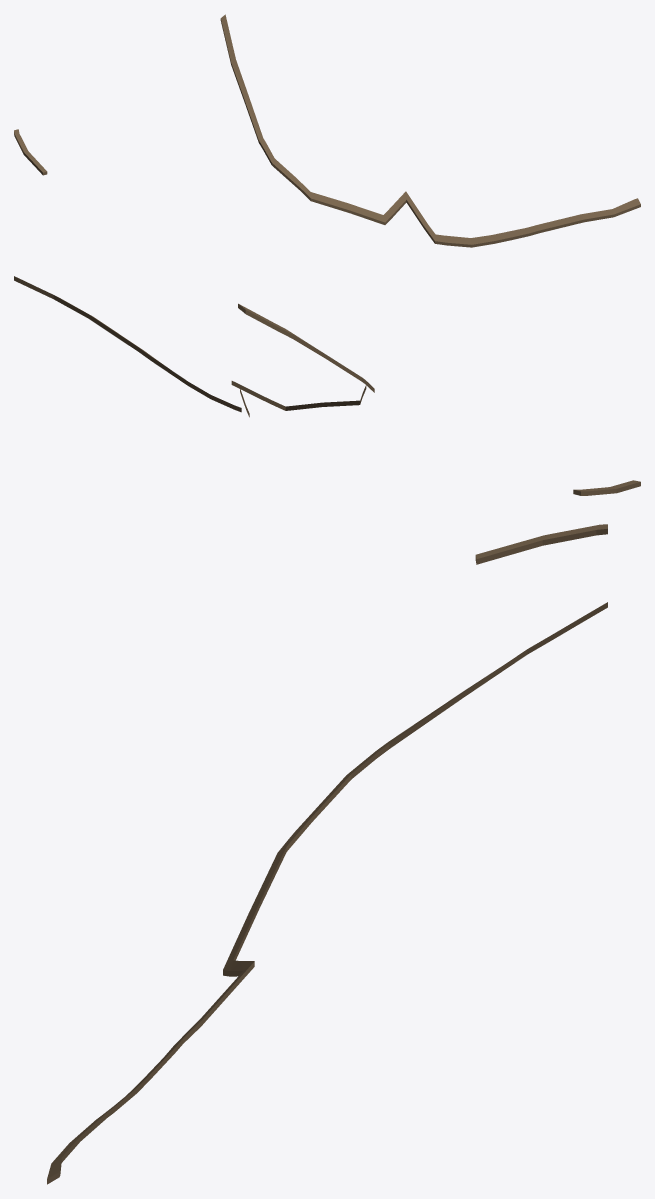
File: 16-54741-29739.2edc3675.glb
3 renders of one model, top to bottom at view 1: azimuth 30°, elevation 25°; view 2: azimuth 150°, elevation 25°; view 3: azimuth 270°, elevation 25°, orthographic. The views are drawn at different scales.
Bounding box in the file's own units: 130 × 45.32 × 64.24.
